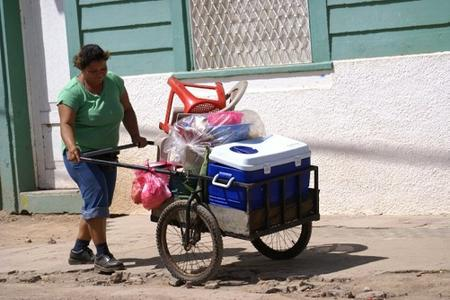person: (57, 44, 148, 275)
